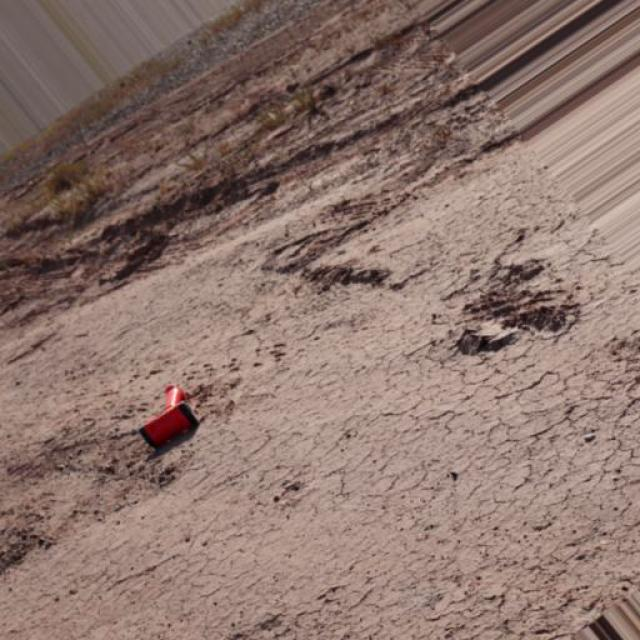mallet: (138, 382, 198, 448)
